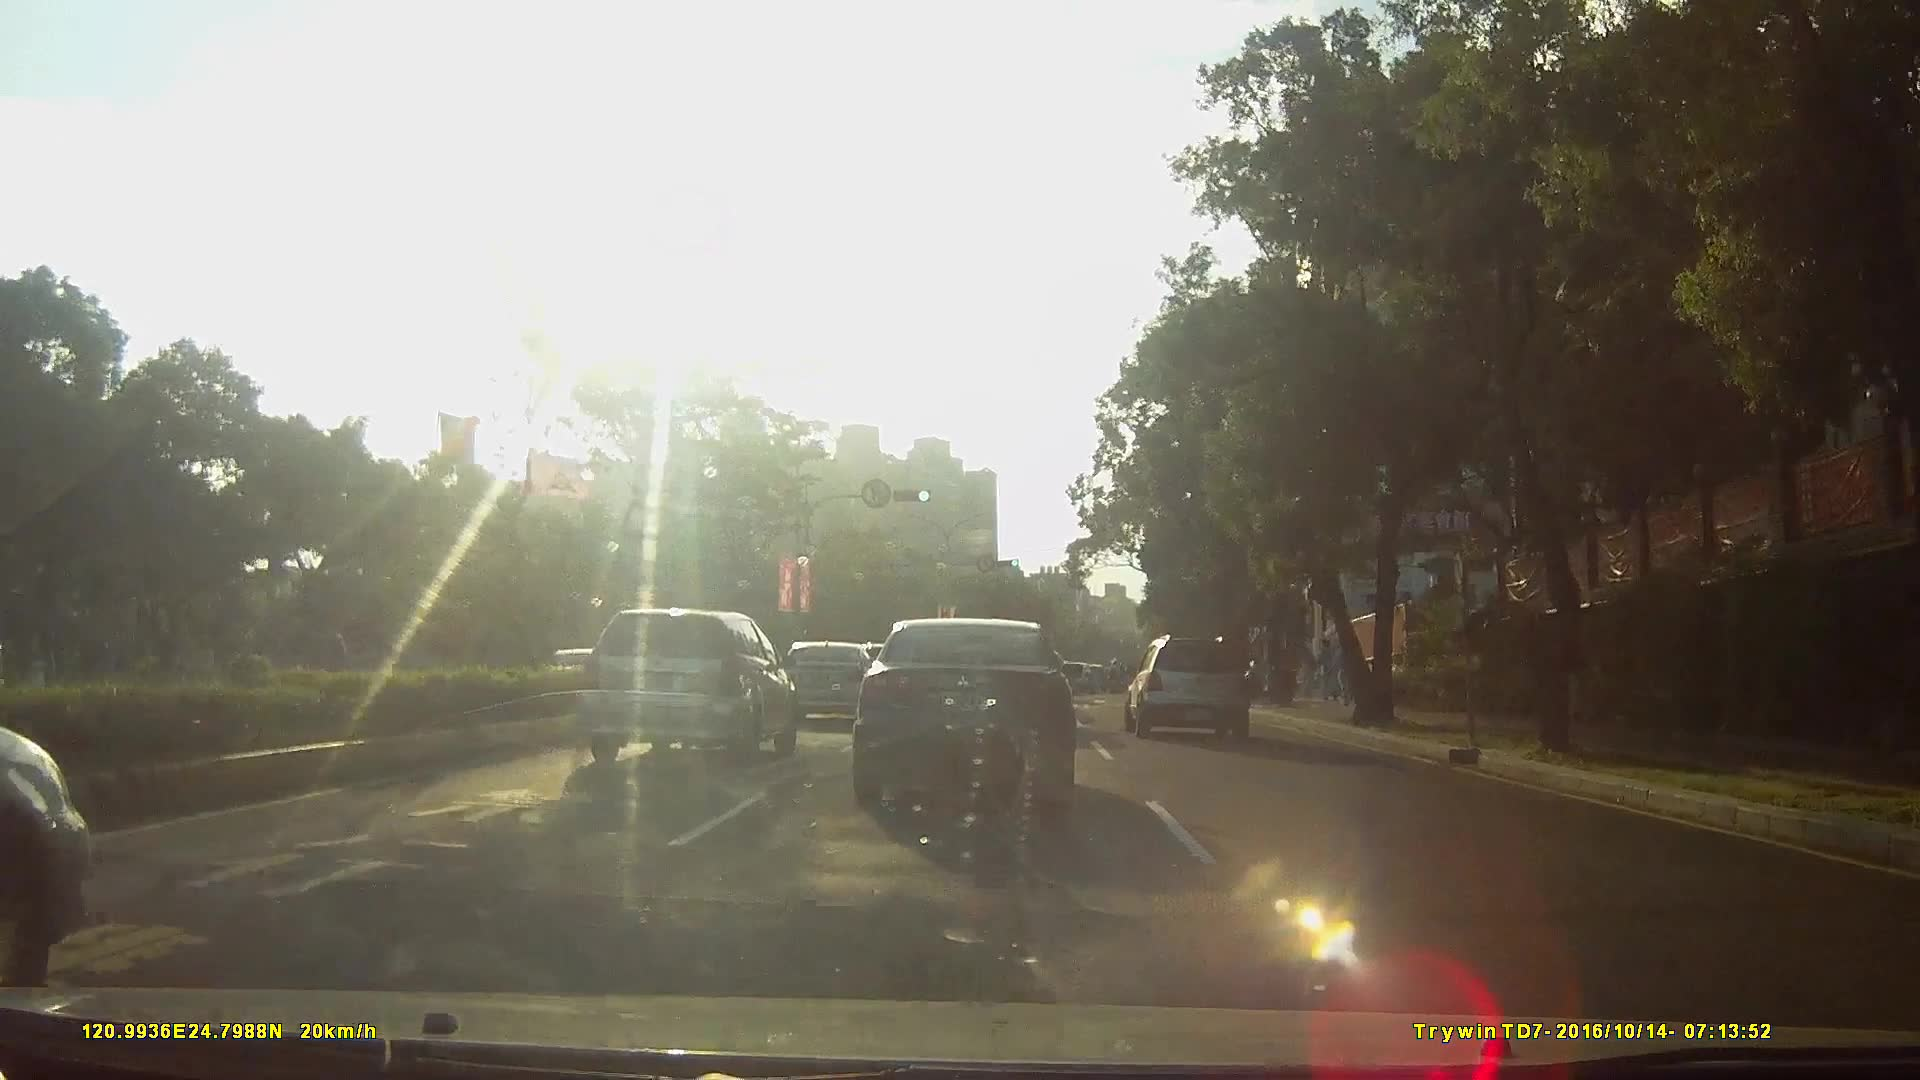pedestrian: (1316, 636, 1337, 710)
vehicle: (851, 611, 1080, 816), (573, 605, 795, 767), (1123, 635, 1263, 741), (772, 642, 885, 726)
